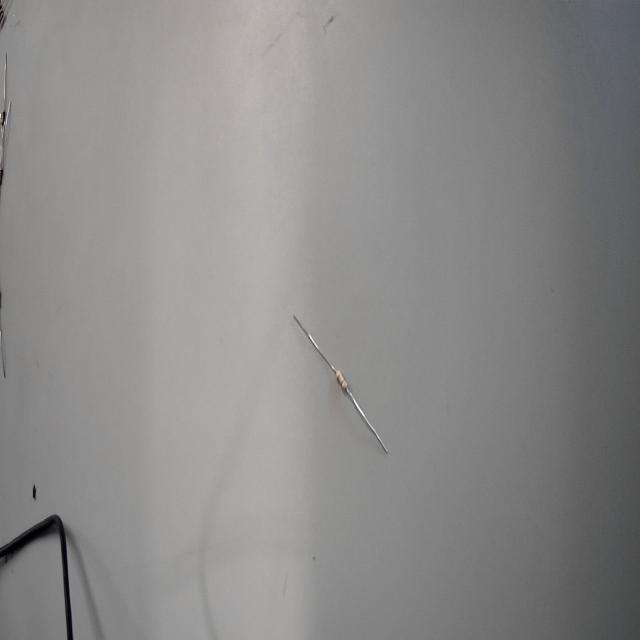resistor: (323, 352, 362, 418)
